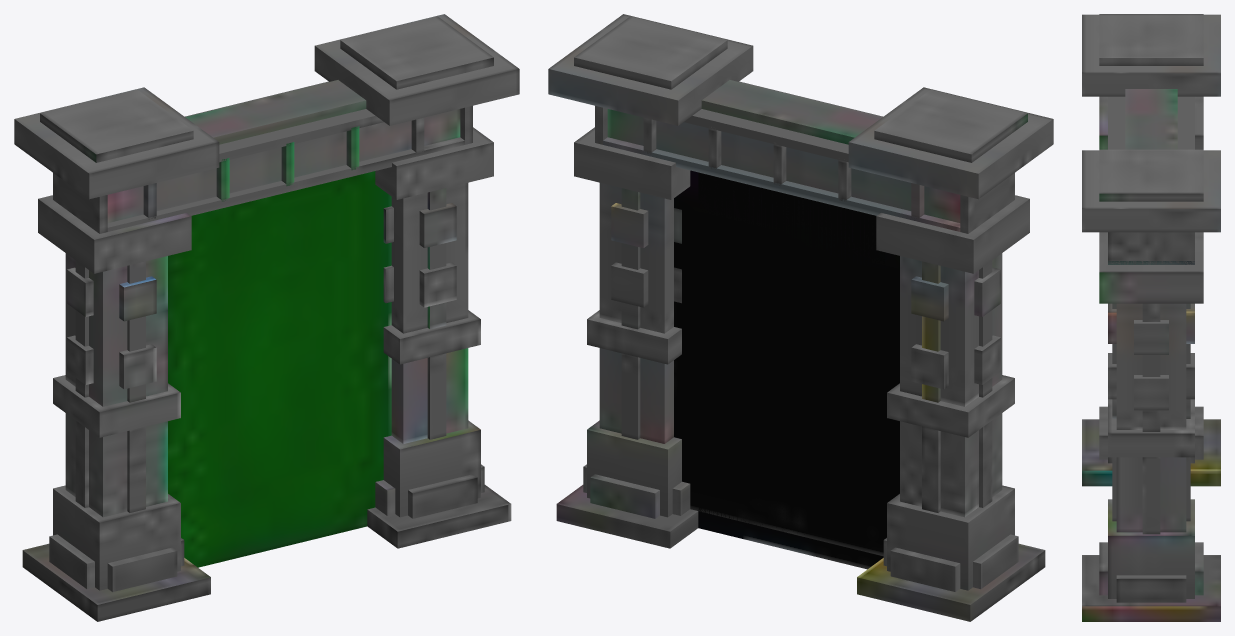
Rendered from asNEWd.fbx.
3 renders of one model, left to right at view 1: azimuth 30°, elevation 25°; view 2: azimuth 150°, elevation 25°; view 3: azimuth 270°, elevation 25°, orthographic. The views are drawn at different scales.
Parts seen in each view (by area): view 1: cube_49, cube_9, cube_46, cube_8, cube_11, cube_45, cube_42, cube_17, cube_6, cube_10, cube_16, cube_34 (+26 smaller); view 2: cube_52, cube_51, cube_9, cube_46, cube_8, cube_11, cube_45, cube_42, cube_17, cube_6, cube_10, cube_16 (+27 smaller); view 3: cube_8, cube_46, cube_6, cube_42, cube_45, cube_7, cube_5, cube_0, cube_1, cube_34, cube_12, cube_2 (+15 smaller).
Boxes of the visible parts, bbox=[...] form: cube_49: bbox=[168, 171, 391, 567]; cube_9: bbox=[107, 109, 460, 222]; cube_46: bbox=[14, 87, 219, 199]; cube_8: bbox=[314, 14, 519, 125]; cube_11: bbox=[65, 253, 167, 406]; cube_45: bbox=[40, 89, 193, 162]; cube_42: bbox=[340, 16, 493, 89]; cube_17: bbox=[53, 485, 180, 590]; cube_6: bbox=[391, 183, 468, 333]; cube_10: bbox=[38, 195, 191, 273]; cube_16: bbox=[65, 413, 167, 517]; cube_34: bbox=[185, 80, 366, 144]; cube_52: bbox=[674, 170, 899, 556]; cube_51: bbox=[698, 172, 884, 569]; cube_9: bbox=[607, 109, 960, 222]; cube_46: bbox=[848, 87, 1053, 199]; cube_8: bbox=[548, 14, 753, 125]; cube_11: bbox=[900, 253, 1002, 406]; cube_45: bbox=[874, 89, 1027, 162]; cube_42: bbox=[574, 16, 727, 89]; cube_17: bbox=[887, 485, 1014, 590]; cube_6: bbox=[599, 183, 673, 333]; cube_10: bbox=[876, 195, 1029, 273]; cube_16: bbox=[900, 413, 1002, 517]; cube_8: bbox=[1082, 150, 1220, 232]; cube_46: bbox=[1082, 14, 1220, 96]; cube_6: bbox=[1116, 303, 1186, 429]; cube_42: bbox=[1099, 149, 1203, 201]; cube_45: bbox=[1099, 14, 1203, 65]; cube_7: bbox=[1099, 232, 1203, 303]; cube_5: bbox=[1082, 555, 1220, 621]; cube_0: bbox=[1108, 499, 1194, 598]; cube_1: bbox=[1116, 457, 1186, 532]; cube_34: bbox=[1125, 89, 1177, 149]; cube_12: bbox=[1082, 419, 1220, 486]; cube_2: bbox=[1108, 399, 1194, 457].
Size of the model in its own units: 2.94 by 3 by 0.8889.
